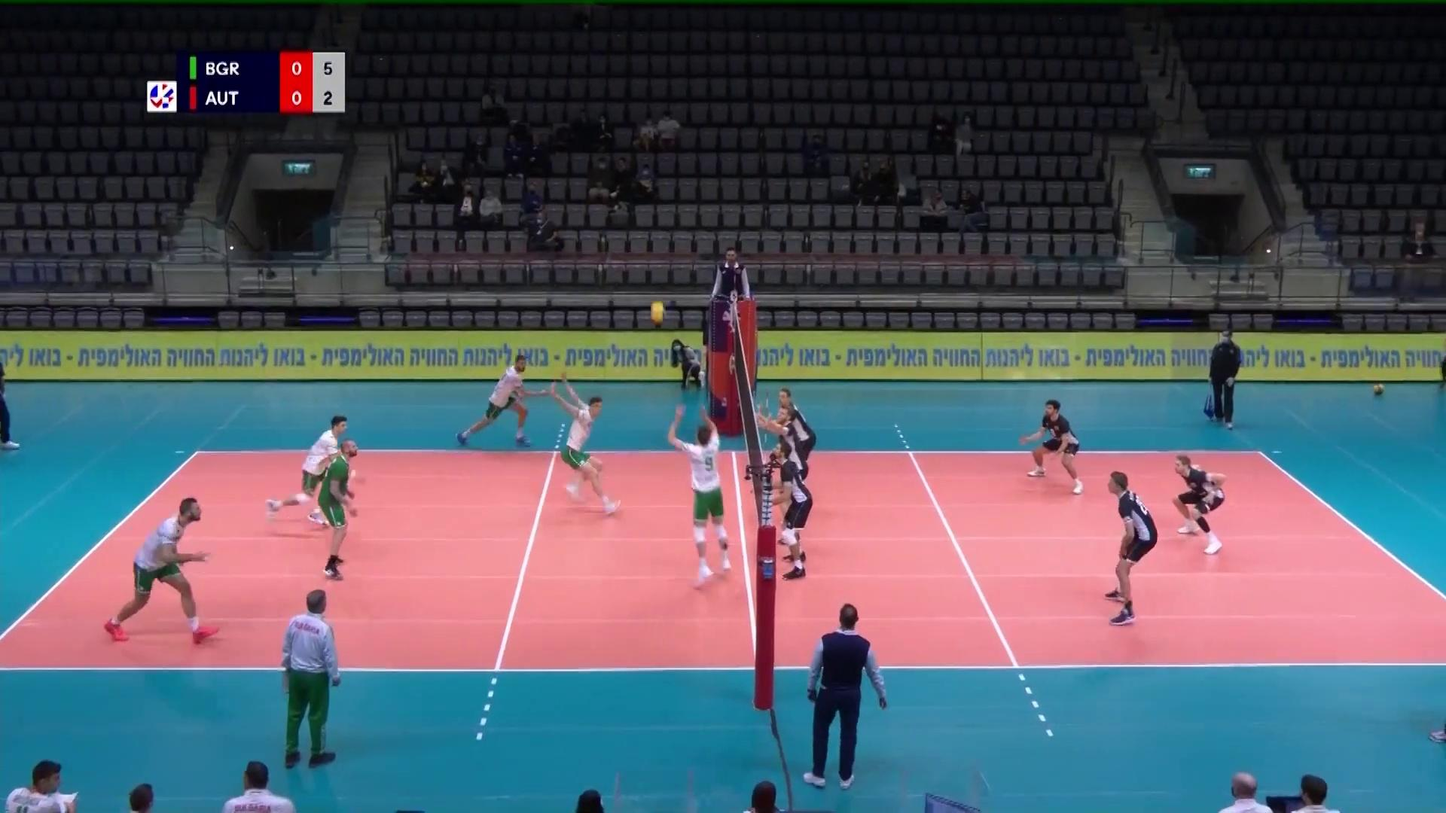ball: (650, 301, 665, 326)
